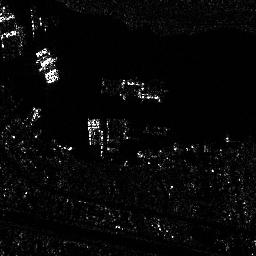ship: (135, 91, 161, 101)
